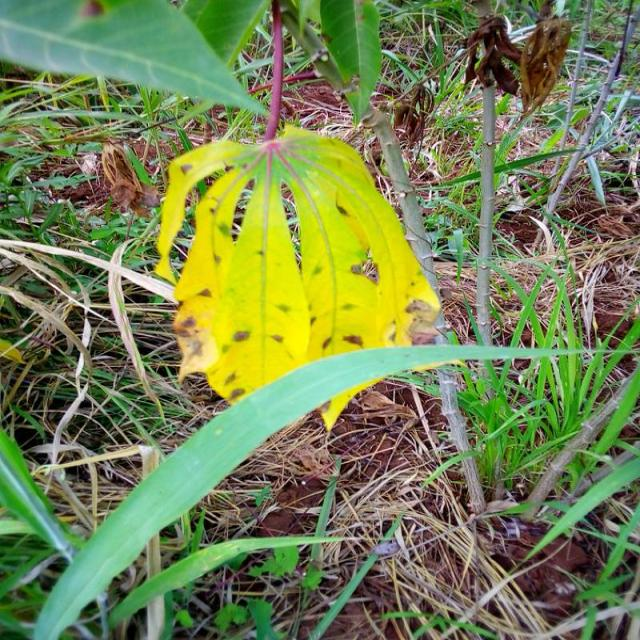cassava leaf: (154, 122, 447, 432), (2, 0, 272, 119)
